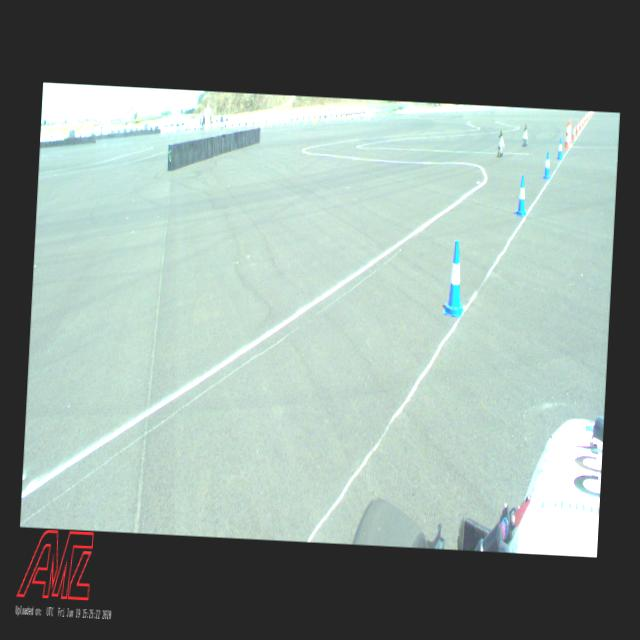blue_cone: (443, 240, 468, 317), (516, 176, 528, 216), (544, 152, 552, 178), (558, 139, 564, 159)
large_orange_cone: (564, 120, 572, 148), (567, 120, 572, 146)
orange_cone: (572, 126, 576, 139), (576, 122, 580, 134), (580, 119, 582, 130), (582, 116, 584, 126), (584, 115, 586, 124)
